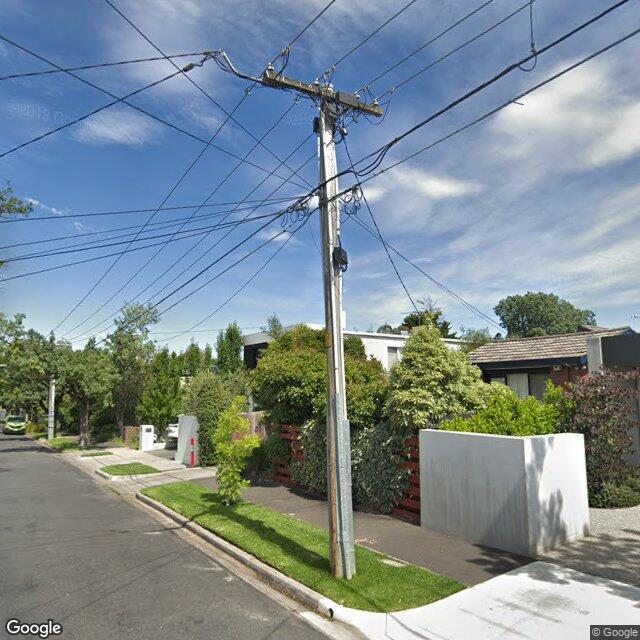crossarm: (260, 44, 396, 124)
timber-pole: (318, 81, 356, 580), (48, 330, 55, 440)
